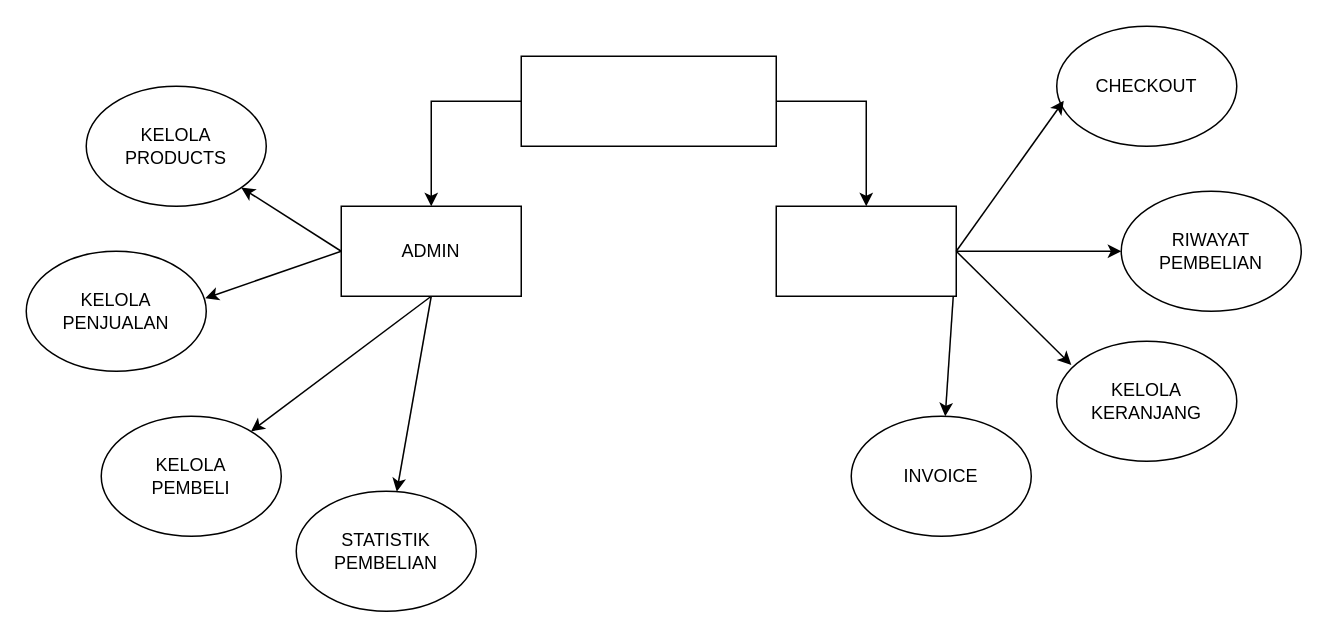
Some shapes in this 1328 by 638 pixel diagram are drawn without their labels. Here are the shapes that lost their labels. From the top down, the centre of each, then its label:
At point (648, 100): "TOKO ONLINE".
At point (865, 250): "BUYER".
